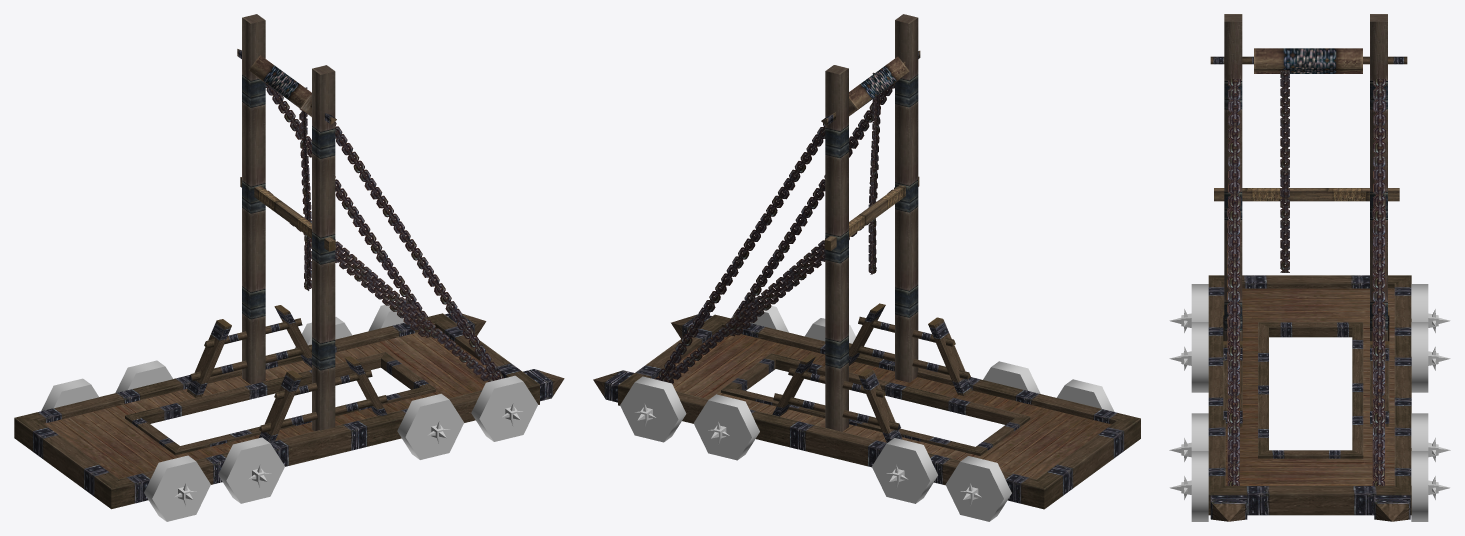
File: zhanche_yc_42.FBX
The picture shows the model from 3 angles, left to right: view 1: azimuth 30°, elevation 25°; view 2: azimuth 150°, elevation 25°; view 3: azimuth 270°, elevation 25°; orthographic projection. The views are drawn at different scales.
Visible parts, largest first — view 1: zhanche_yc_42; view 2: zhanche_yc_42; view 3: zhanche_yc_42.
Boxes of the visible parts, x1,y1,x2,y2 form: zhanche_yc_42: (14, 14, 564, 521); zhanche_yc_42: (593, 14, 1140, 521); zhanche_yc_42: (1169, 14, 1450, 521).
Size of what is drawn, in the model's own units: 1339 by 1089 by 675.
